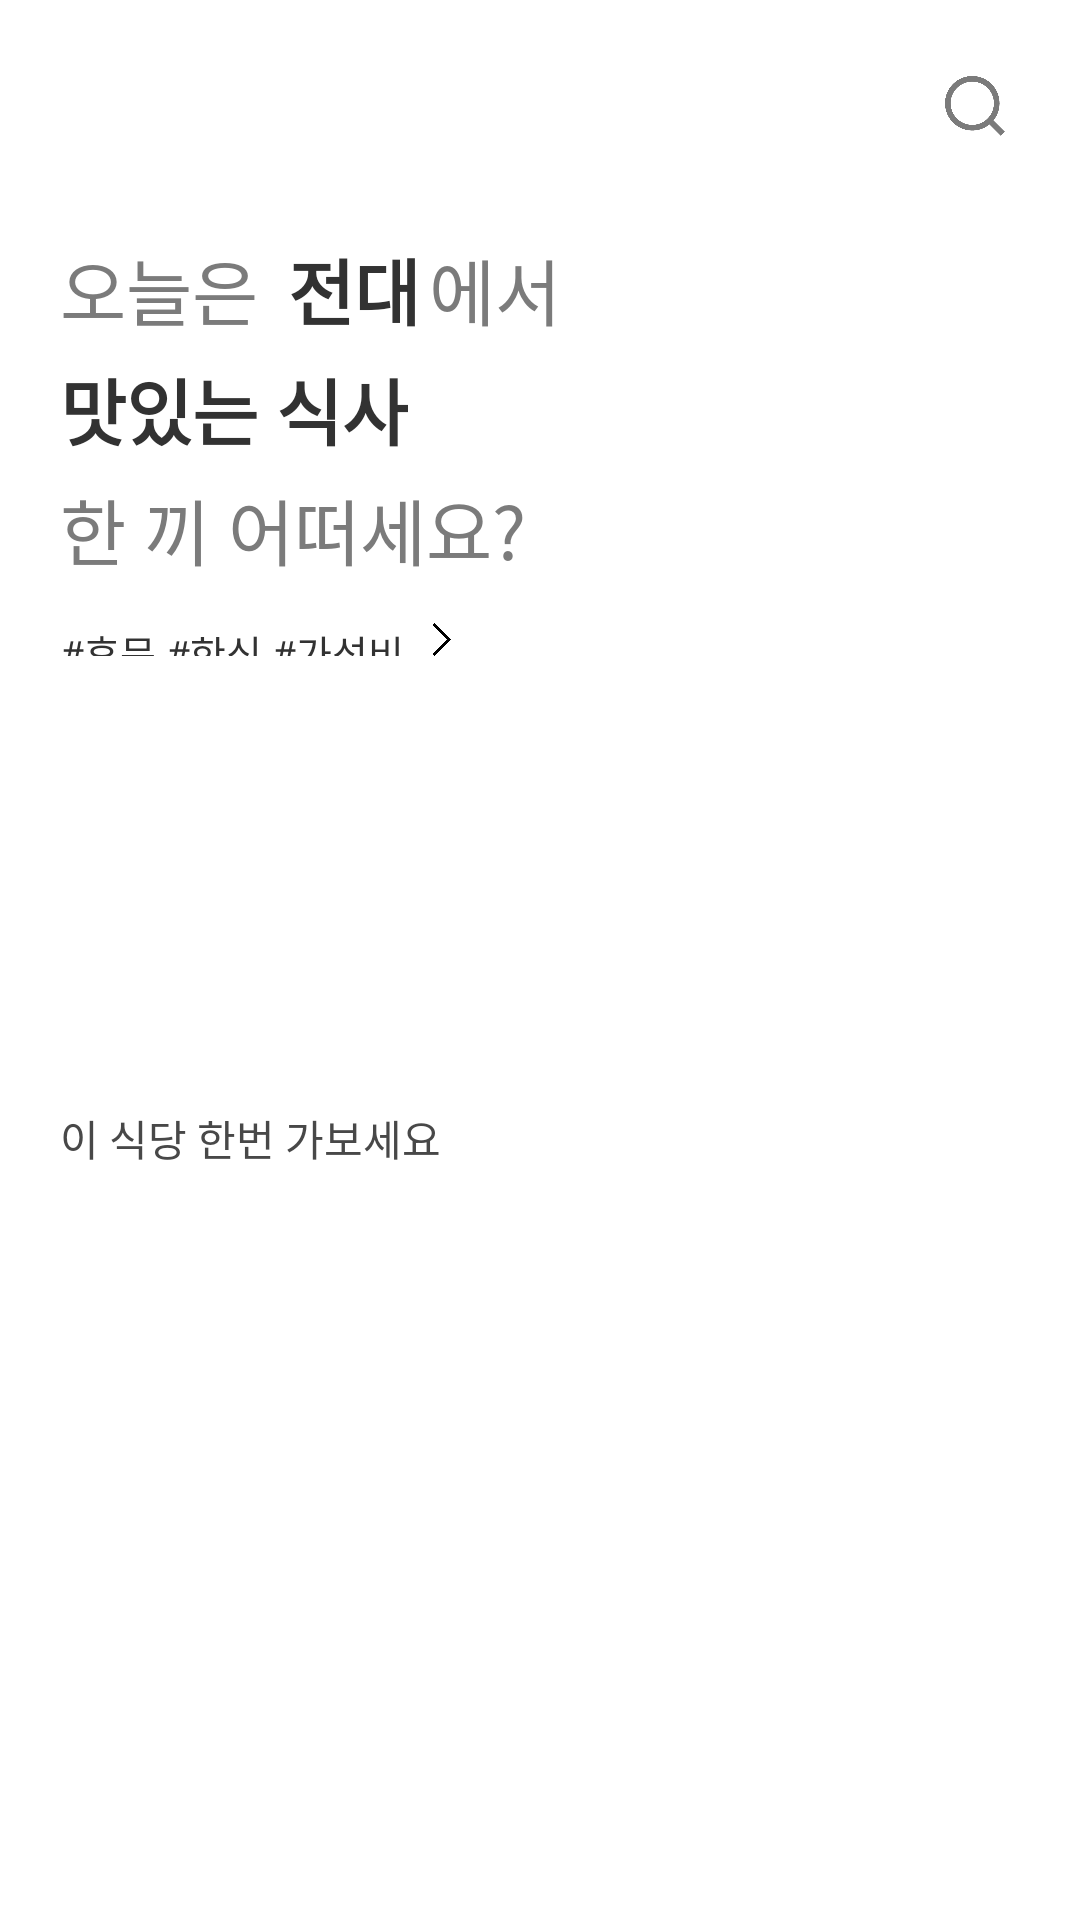

Named icons in this screenshot (1080px×1920px) and their centers, (x=x, y=y):
search: (x=975, y=106)
